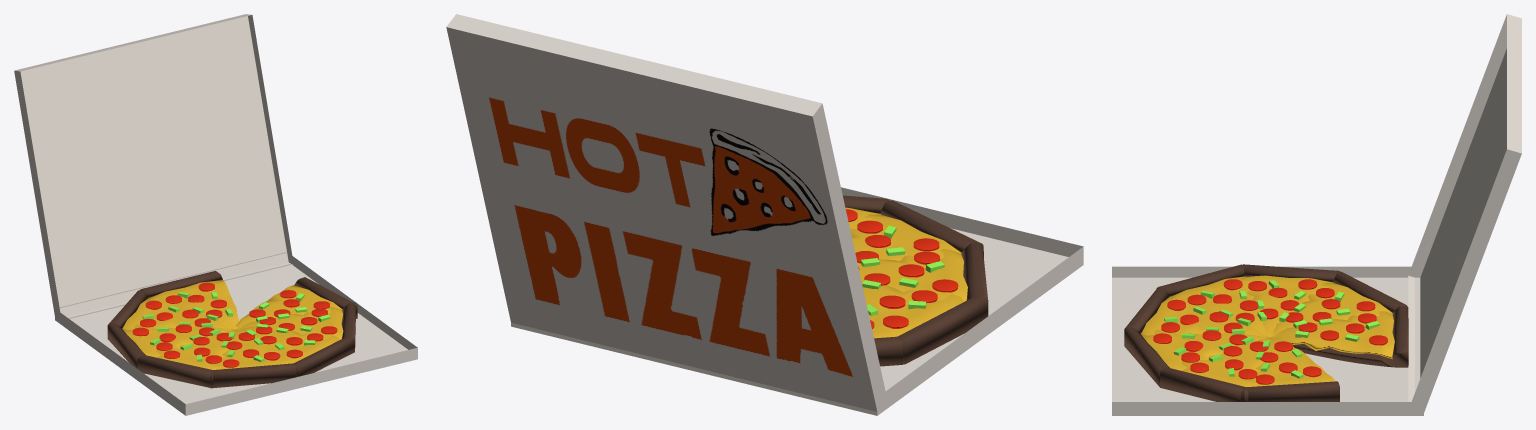
The model's file is pizzabox.fbx.
3 renders of one model, left to right at view 1: azimuth 30°, elevation 25°; view 2: azimuth 150°, elevation 25°; view 3: azimuth 270°, elevation 25°, orthographic. The views are drawn at different scales.
Visible parts, largest first — view 1: Pizza; view 2: Pizza; view 3: Pizza.
Boxes of the visible parts, x1,y1,x2,y2 form: Pizza: (14,14,417,415); Pizza: (446,14,1083,415); Pizza: (1112,14,1521,415).
Bounding box in the file's own units: 410 × 377 × 525.
